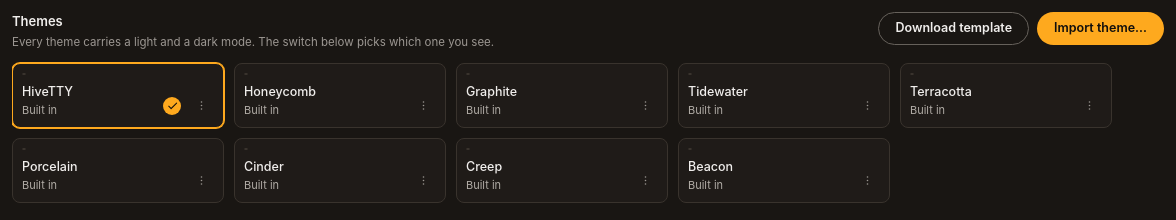
Test case: ThemeGallery › offers no Remove on hivetty
Click the button named "HiveTTY actions": (202, 106) x1=189 y1=93 x2=214 y2=118
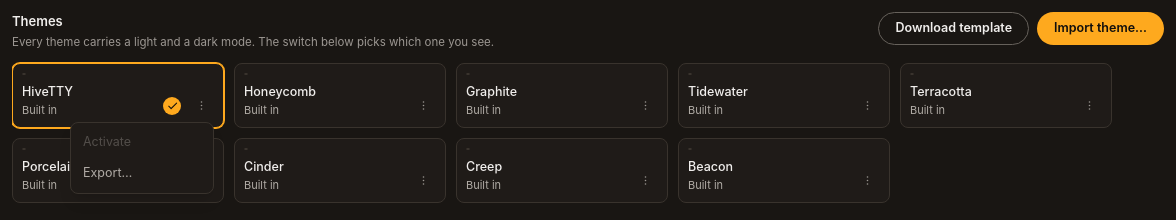
Now the menu item "Export…" is shown, box x1=83 y1=165 x2=132 y2=180
